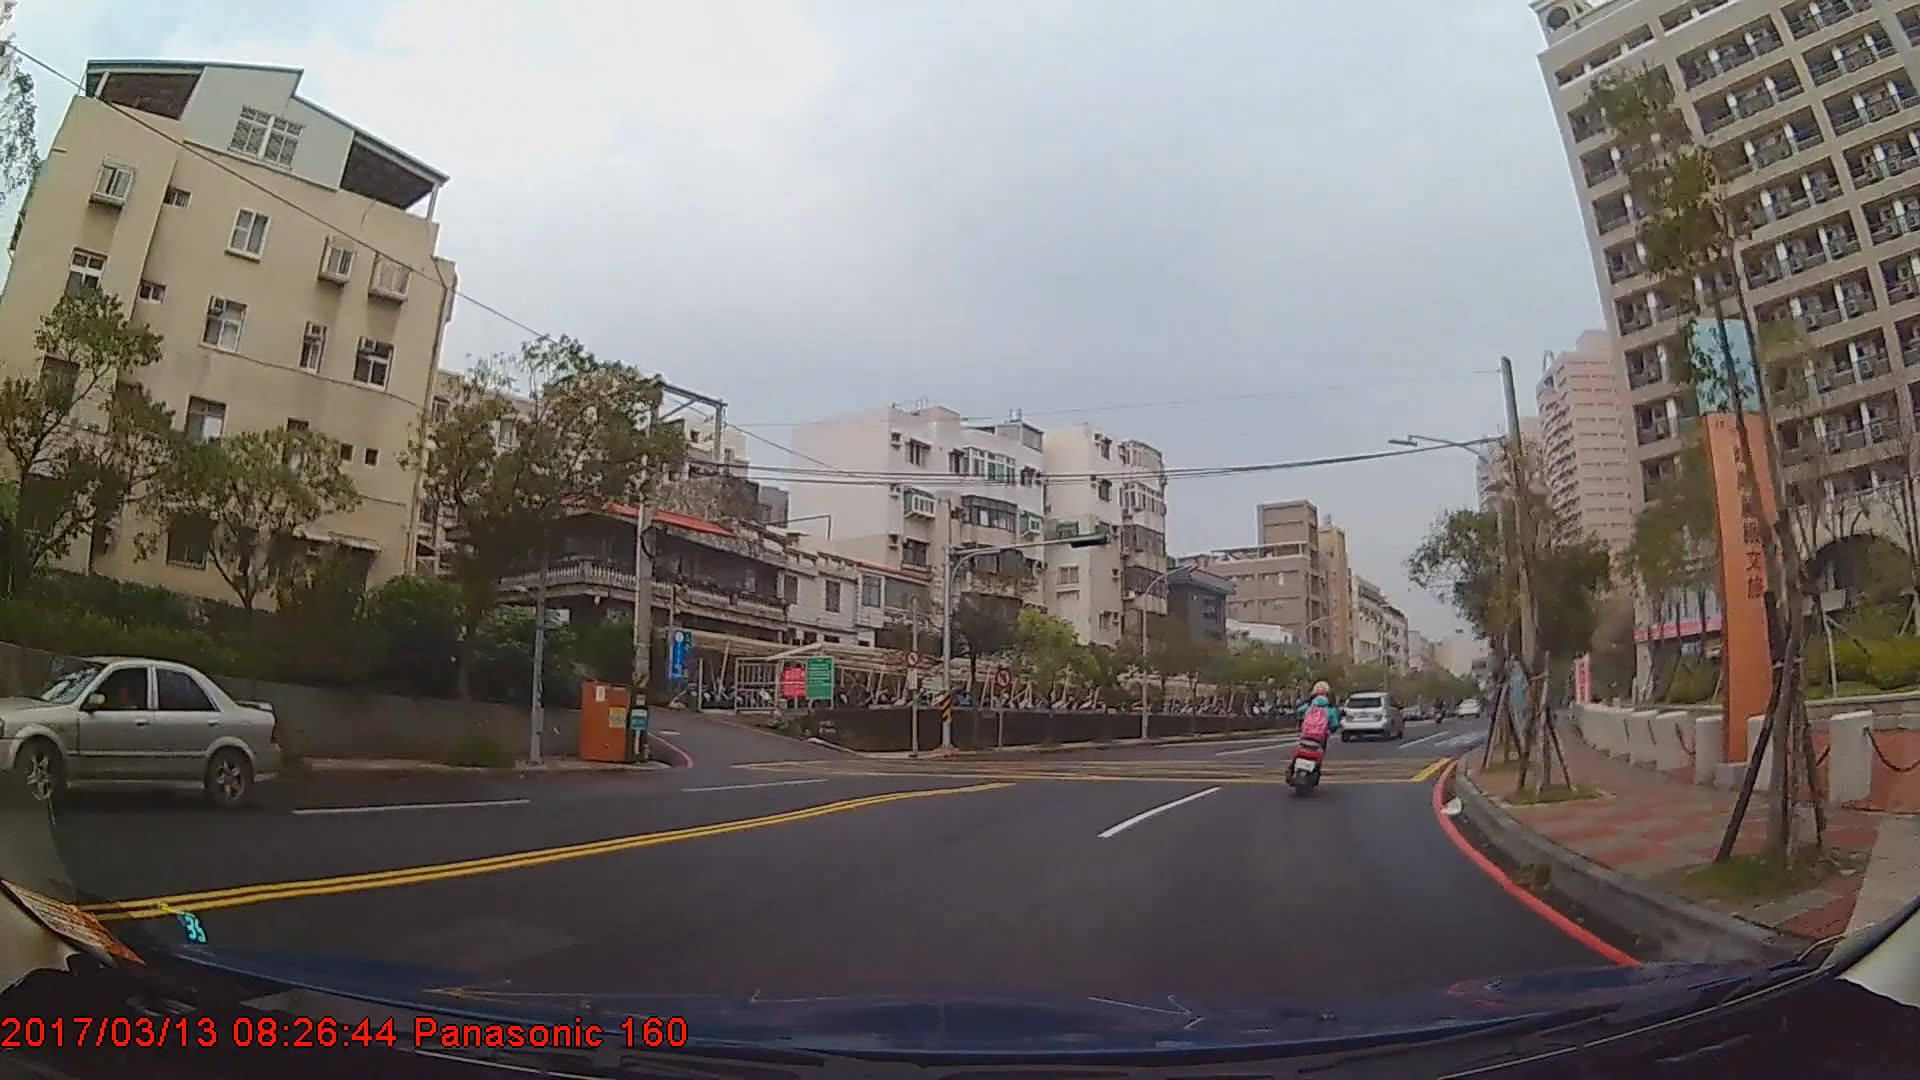rider: (1287, 677, 1342, 791)
vehicle: (0, 655, 282, 812), (1339, 689, 1405, 737)
